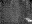person: (25, 16, 31, 23)
